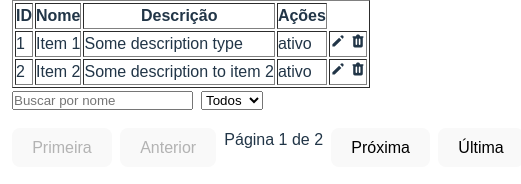
ListCategoriesPage › you must navigate between pages correctly by activating pagination
Expected: the text "Item 1" is shown, [35, 31, 82, 57]
What coordinates should you click on to do the following:
click the button "Próxima"
I would click on:
 (381, 148)
Its box is [331, 128, 430, 167].
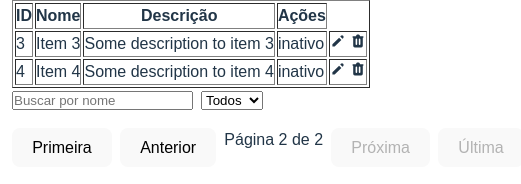
Now the text "Item 3" is shown, box [35, 31, 82, 57]
